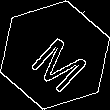M_NE: (20, 21, 90, 89)
